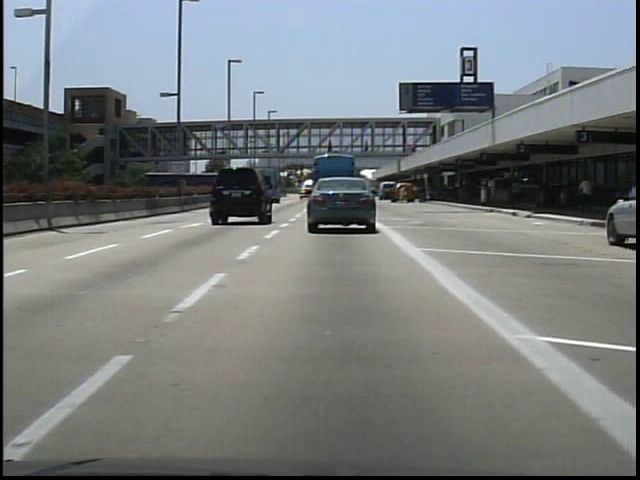person: (574, 170, 594, 215), (506, 175, 525, 214), (415, 179, 432, 206), (398, 180, 414, 207), (361, 137, 373, 159), (324, 135, 337, 155)
